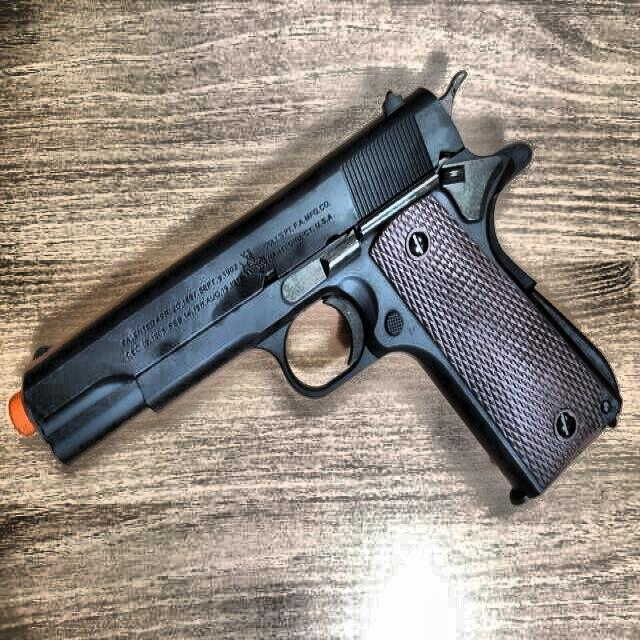Colt m1911: (7, 68, 623, 505)
